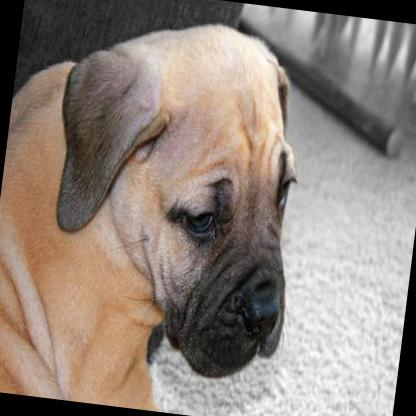bull_mastiff: (0, 0, 320, 416)
